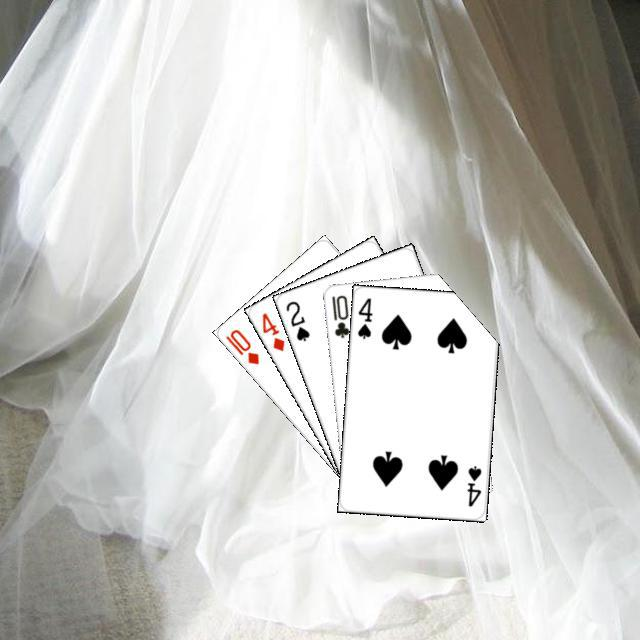10c: (327, 290, 351, 339)
10d: (220, 324, 261, 366)
2s: (281, 296, 312, 343)
4d: (257, 308, 286, 353)
4s: (353, 293, 374, 341), (462, 461, 483, 508)
